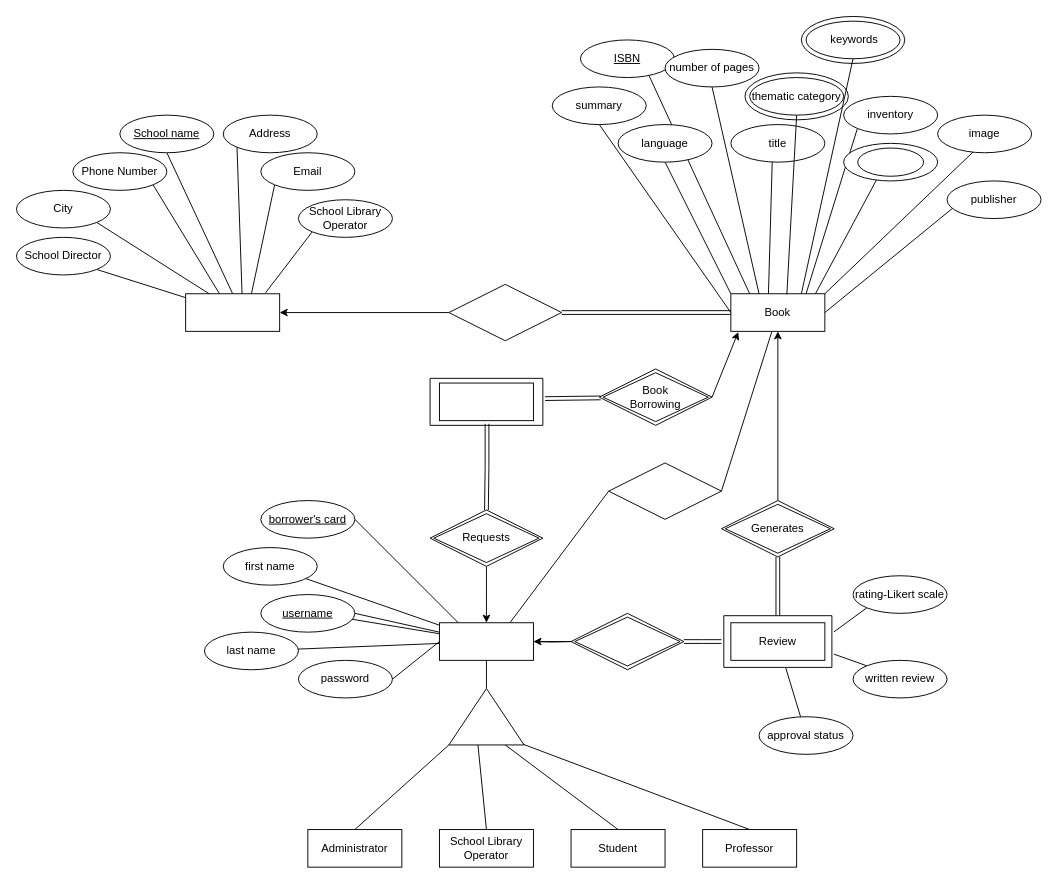
The diagram is 1058 pixels wide and 884 high, and some of its shapes have lost their labels. The box of each missing label's shape, as (x1, y1, x2, y2) in pixels:
authors: (843, 142, 938, 181)
ISA: (448, 688, 524, 745)
Registers: (448, 283, 562, 341)
Reservation: (439, 382, 533, 421)
School: (185, 293, 280, 331)
User: (439, 622, 533, 660)
Views: (608, 462, 721, 519)
Writes: (570, 612, 684, 670)
